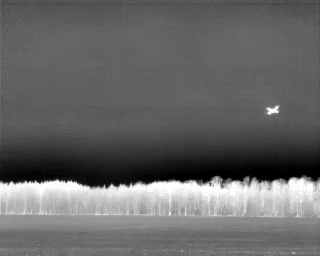DRONE: (262, 101, 284, 120)
